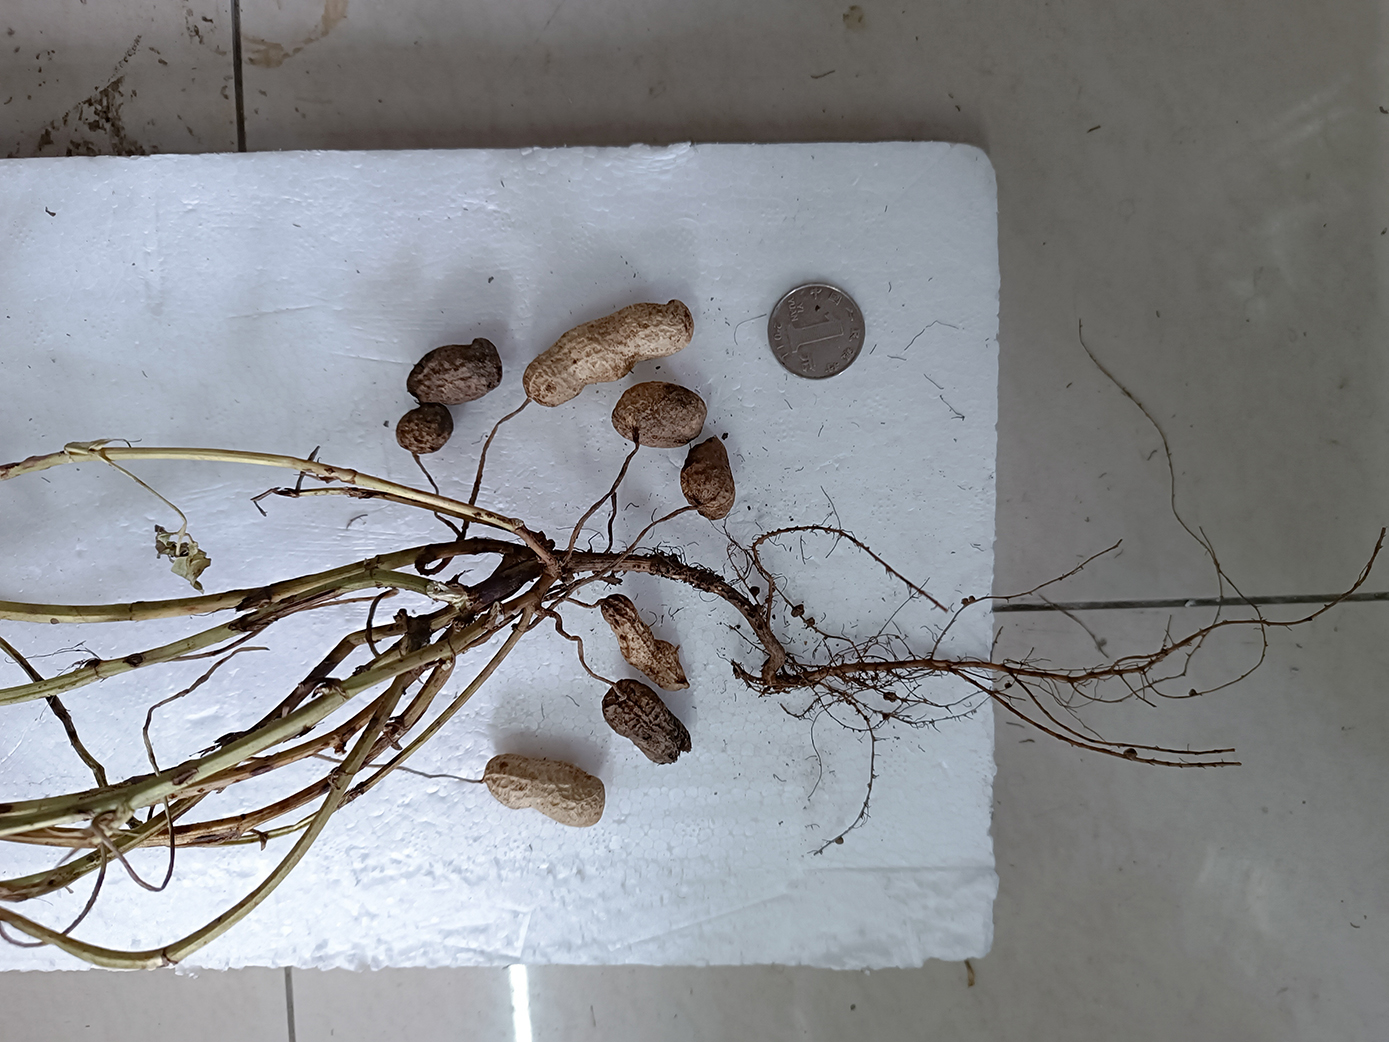h: (522, 296, 695, 409), (486, 755, 607, 826)
l: (600, 595, 692, 693), (599, 683, 696, 761), (407, 337, 503, 408), (612, 384, 707, 448), (680, 437, 737, 522), (393, 406, 458, 453)
